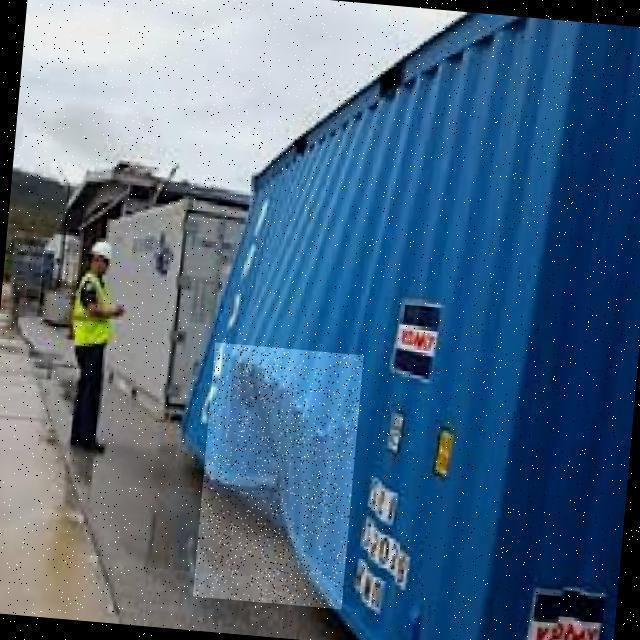dent: (194, 343, 365, 610)
